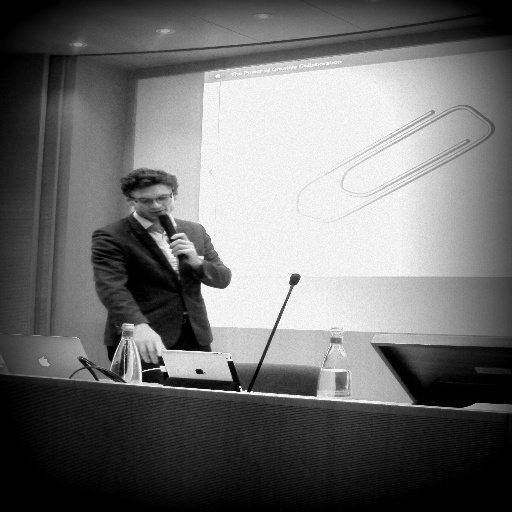hand: (168, 228, 221, 289), (127, 324, 168, 365)
